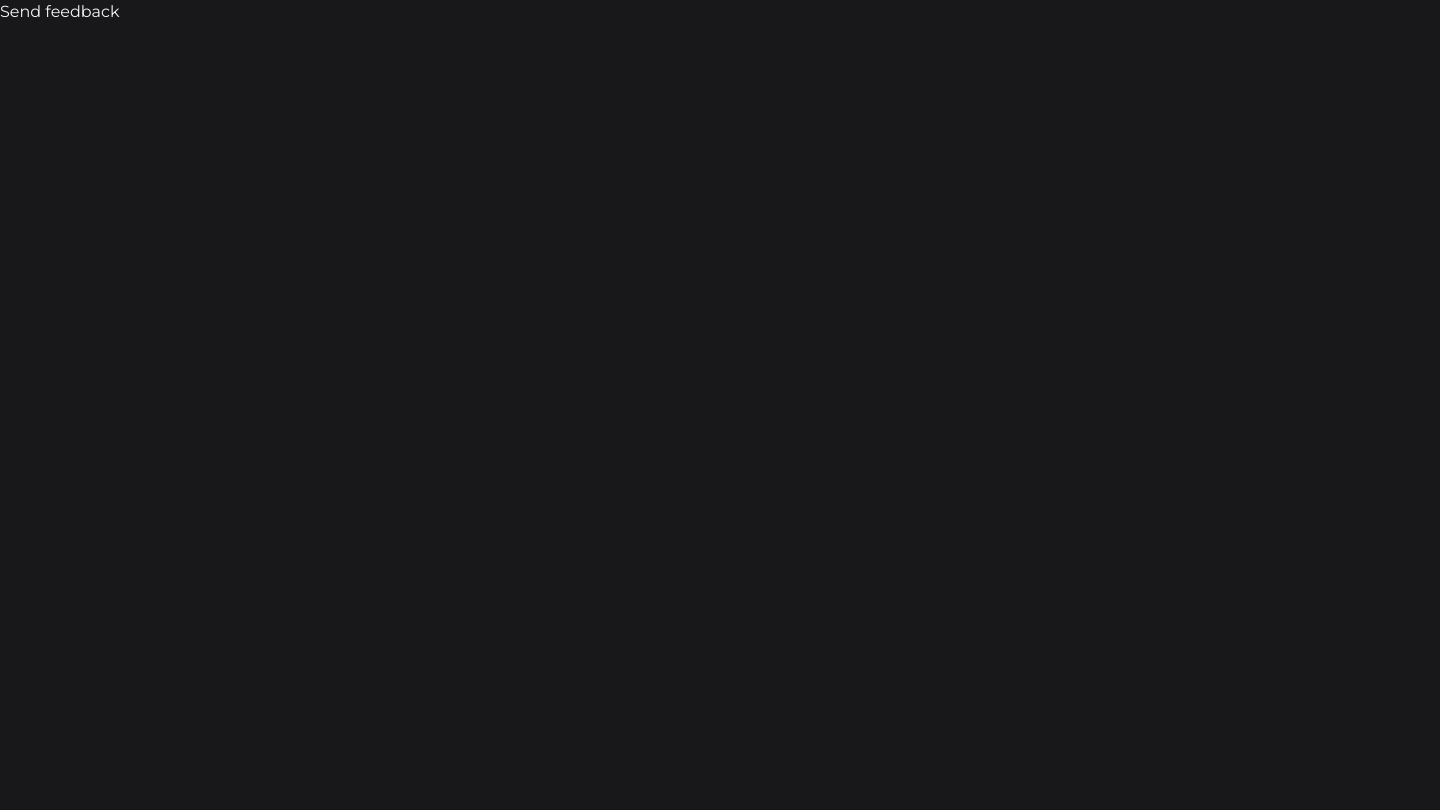
Test: FeedbackForm › opens the dialog when the trigger is clicked
The image size is (1440, 810).
Click the button "Send feedback": (60, 12) [0,0,120,24]
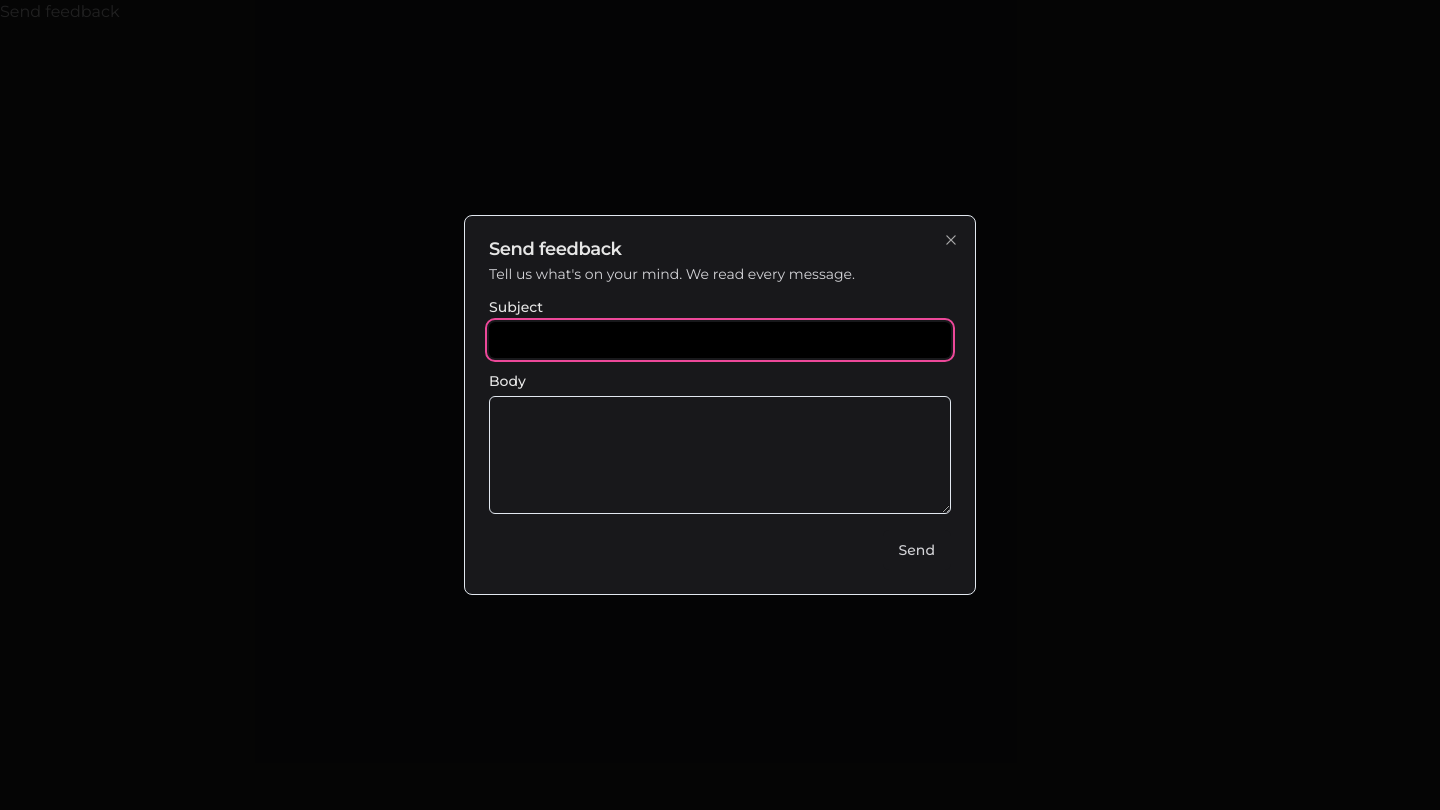
Check: the dialog is shown, box [464,215,976,595]
Check: the field labelled "Subject" is shown, box [489,322,951,358]
Check: the text box labelled "Body" is shown, box [489,396,951,514]
